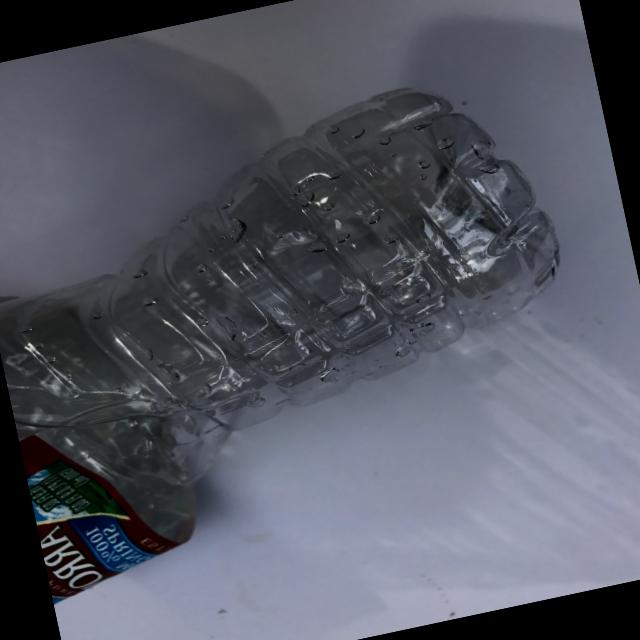Plastic: (0, 54, 622, 628)
